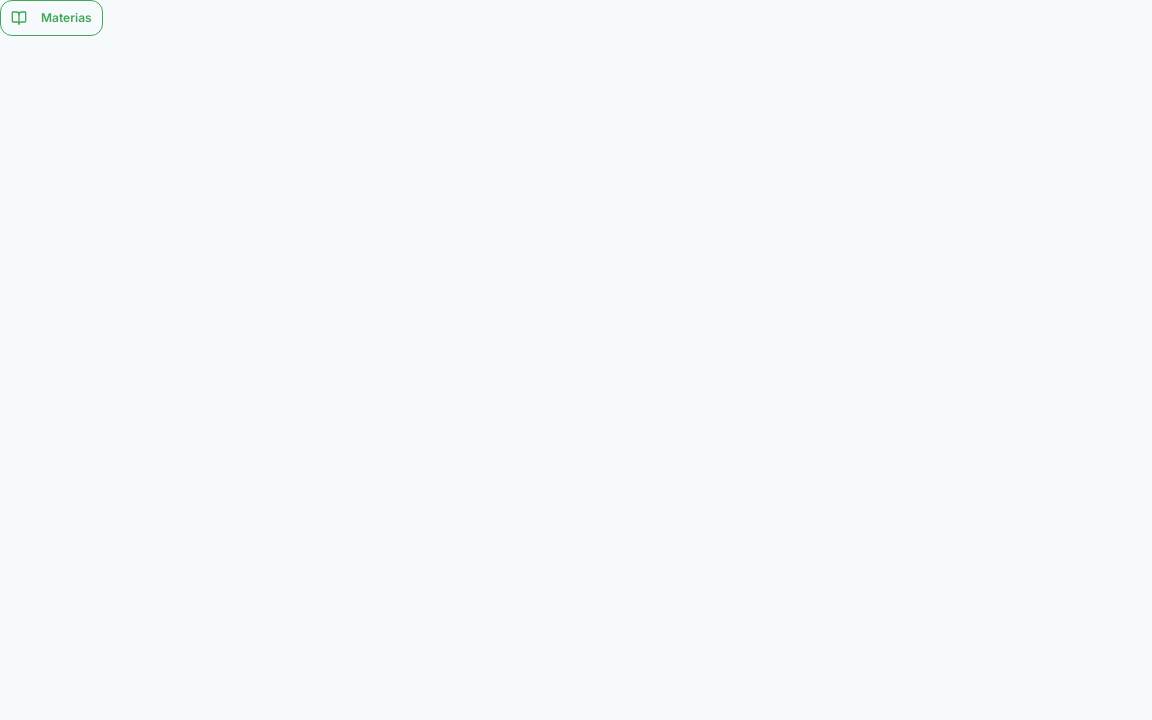
Test: ManageSubjectsDialog – Pruebas de Integración Gestión de Materias › INT-SUB02 – Muestra mensaje cuando no existen cursos
Click the button "Materias": (51, 18) [0, 0, 103, 36]
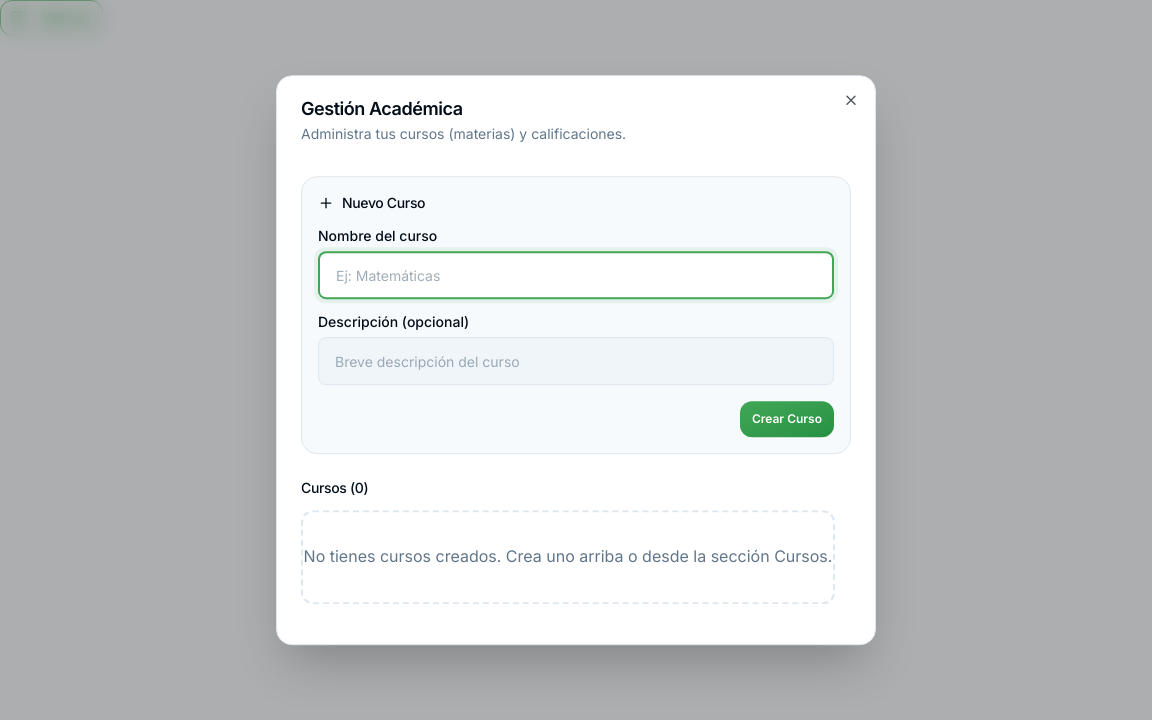
Now the text "No tienes cursos creados" is shown, box [304, 546, 832, 566]
